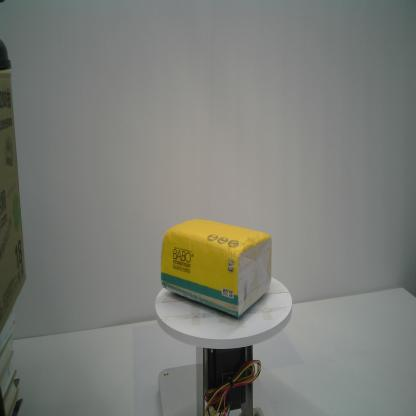Tissue: (158, 216, 272, 320)
